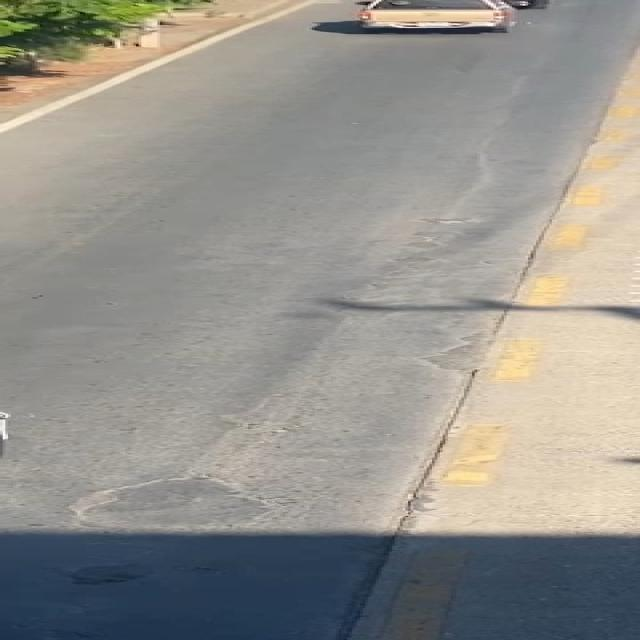car: (328, 0, 530, 38)
